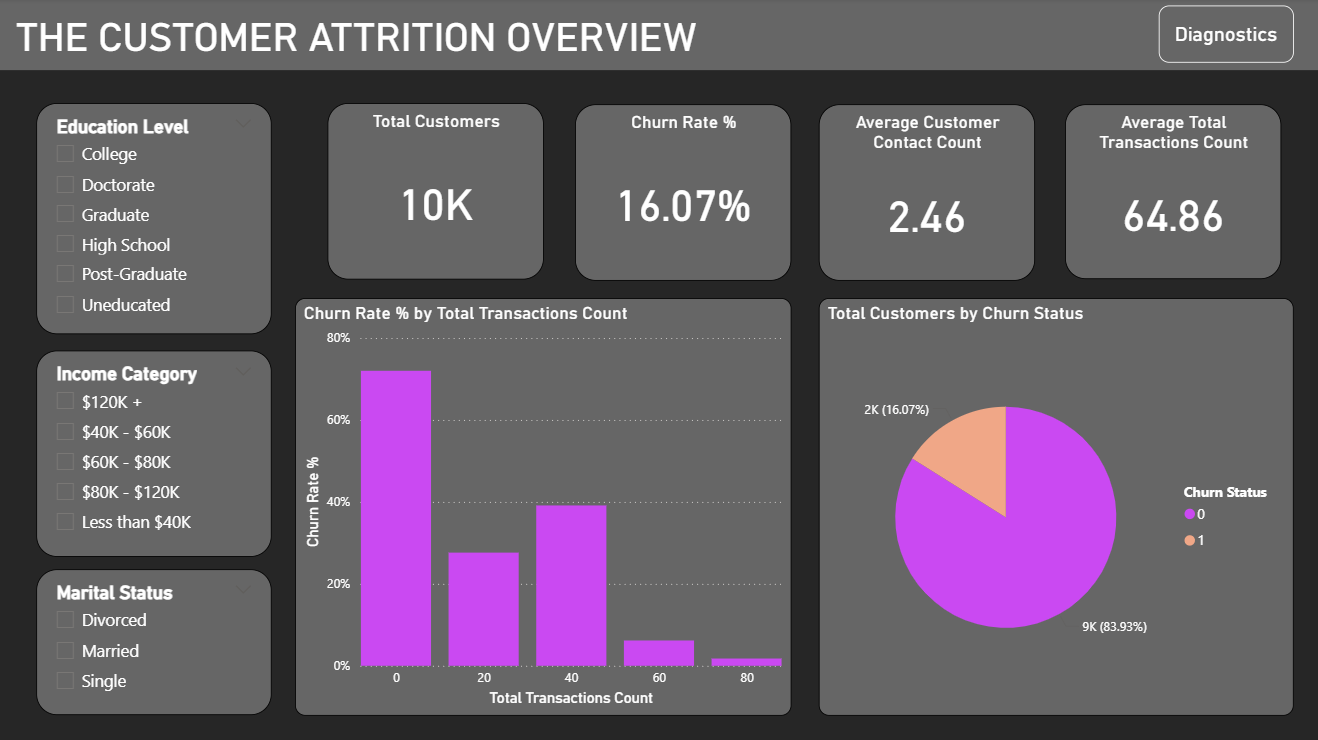

This screenshot's page, from the dashboard's own definition file:
{"tool":"powerbi","page":{"name":"Overview","canvas":[1280,720],"ordinal":0},"visuals":[{"type":"clusteredColumnChart","fields":{"Y":["Final_Bank_Customers_Data.Churn Rate %"],"Category":["Final_Bank_Customers_Data.Total Transactions Count 2"]},"box":[289.5,289.5,479,403],"z":0},{"type":"card","title":"Total Customers","fields":{"Values":["Final_Bank_Customers_Data.Total Customers"]},"box":[320.9,101.3,208.7,170.1],"z":1000},{"type":"actionButton","box":[0,0,100,40],"z":2000},{"type":"card","title":"Churn Rate %","fields":{"Values":["Final_Bank_Customers_Data.Churn Rate %"]},"box":[559.8,102.5,208.7,170.1],"z":3000},{"type":"card","title":"Average Total Transactions Count","fields":{"Values":["Avg(Final_Bank_Customers_Data.Total Transactions Count)"]},"box":[1032.7,102.5,208.7,168.9],"z":4000},{"type":"card","title":"Average Customer Contact Count","fields":{"Values":["Avg(Final_Bank_Customers_Data.Customer Contact Count)"]},"box":[795,102.5,208.7,170.1],"z":5000},{"type":"slicer","fields":{"Values":["Final_Bank_Customers_Data.Income_Category"]},"box":[39.8,340.2,226.8,199.1],"z":6000},{"type":"slicer","title":"Education Le","fields":{"Values":["Final_Bank_Customers_Data.Education_Level"]},"box":[39.8,101.3,226.8,223.2],"z":7000},{"type":"slicer","fields":{"Values":["Final_Bank_Customers_Data.Marital_Status"]},"box":[39.8,551.3,226.8,141.2],"z":8000},{"type":"textbox","box":[0,0,1280,70],"z":9000},{"type":"pieChart","fields":{"Category":["Final_Bank_Customers_Data.Churn Status"],"Y":["Final_Bank_Customers_Data.Total Customers"]},"box":[795,289.5,458.4,403],"z":10000},{"type":"actionButton","box":[1123.2,7.2,130.3,55.5],"z":11000}]}

Visuals, with their boxes in screenshot pixels (x1, y1, x2, y2), scaled from the page's 1280x720 canvas onto the 1318x740 screenshot:
clusteredColumnChart - Final_Bank_Customers_Data.Churn Rate % x Final_Bank_Customers_Data.Total Transactions Count 2: {"left": 298, "top": 298, "right": 791, "bottom": 712}
"Total Customers" card: {"left": 330, "top": 104, "right": 545, "bottom": 279}
actionButton: {"left": 0, "top": 0, "right": 103, "bottom": 41}
"Churn Rate %" card: {"left": 576, "top": 105, "right": 791, "bottom": 280}
"Average Total Transactions Count" card: {"left": 1063, "top": 105, "right": 1278, "bottom": 279}
"Average Customer Contact Count" card: {"left": 819, "top": 105, "right": 1033, "bottom": 280}
slicer - Final_Bank_Customers_Data.Income_Category: {"left": 41, "top": 350, "right": 275, "bottom": 554}
"Education Le" slicer: {"left": 41, "top": 104, "right": 275, "bottom": 334}
slicer - Final_Bank_Customers_Data.Marital_Status: {"left": 41, "top": 567, "right": 275, "bottom": 712}
textbox: {"left": 0, "top": 0, "right": 1317, "bottom": 72}
pieChart - Final_Bank_Customers_Data.Churn Status x Final_Bank_Customers_Data.Total Customers: {"left": 819, "top": 298, "right": 1291, "bottom": 712}
actionButton: {"left": 1157, "top": 7, "right": 1291, "bottom": 64}
